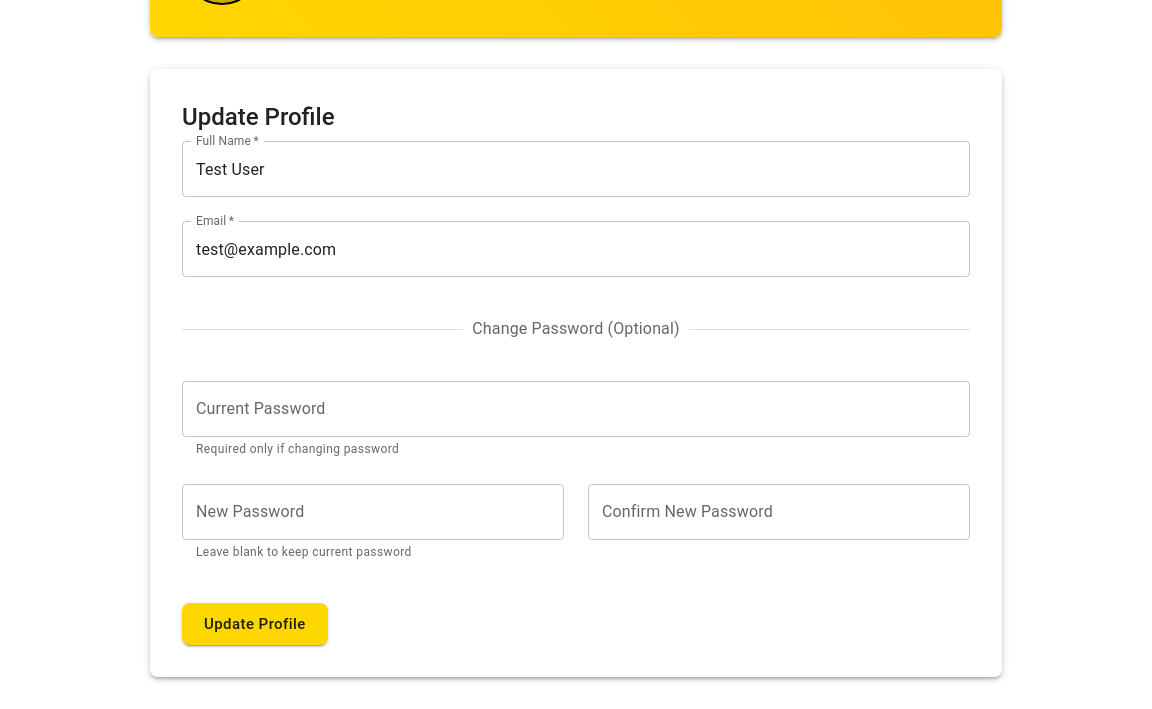
it: Profile Component › Form Submission › should show success message after successful update
The image size is (1152, 709).
(page scrolled)
Click the button "Update Profile" at coordinates (255, 624), box [182, 603, 328, 646]
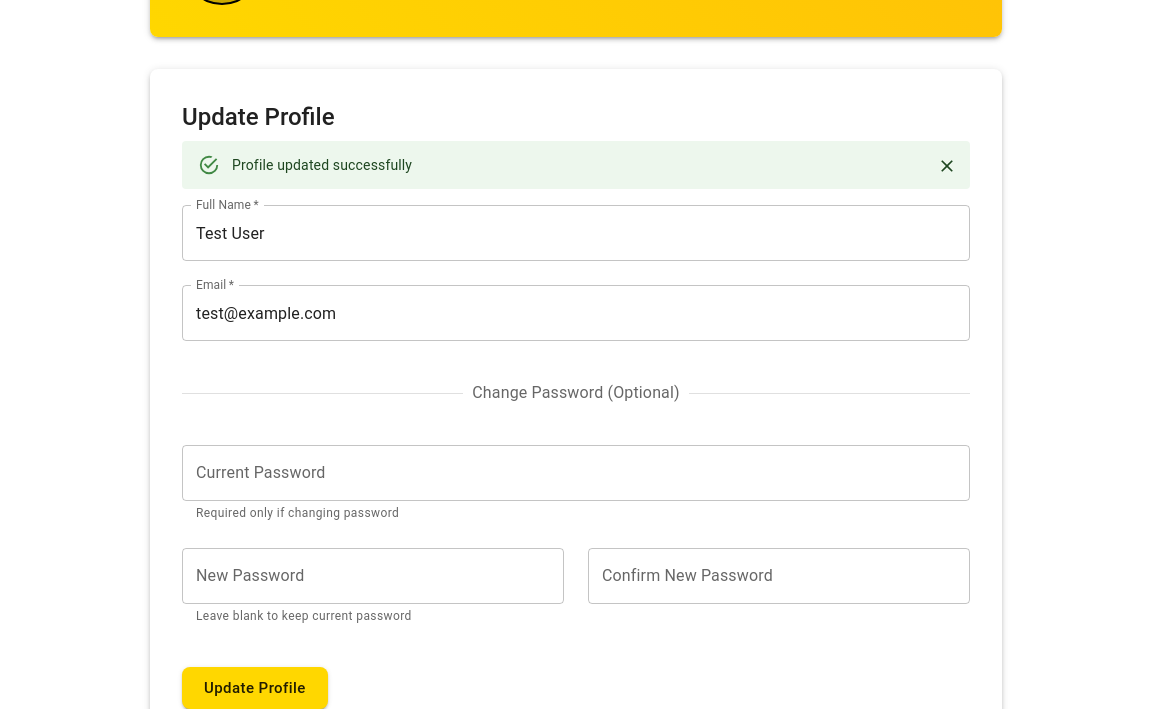
expect the text "Profile updated successfully" is shown: met, box [232, 157, 412, 173]
